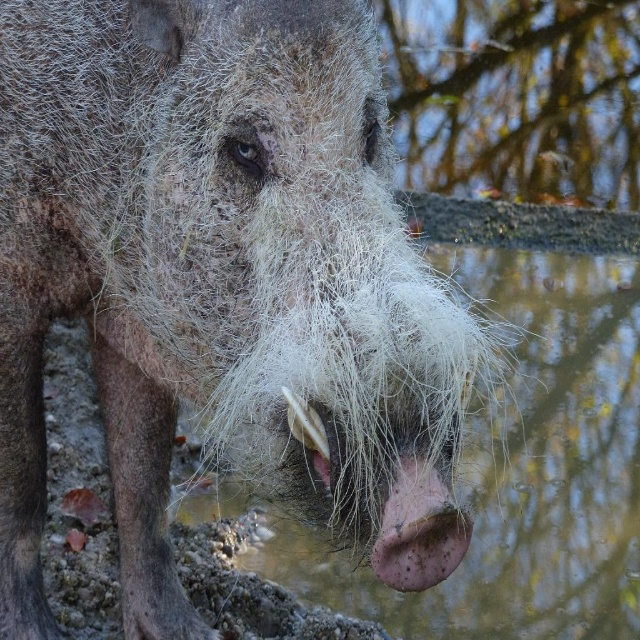Pig: (0, 0, 550, 639)
